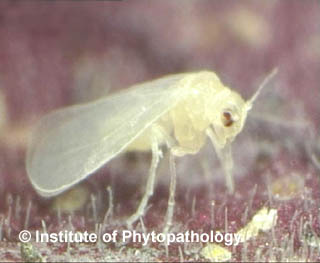whitefly: (27, 68, 281, 231)
